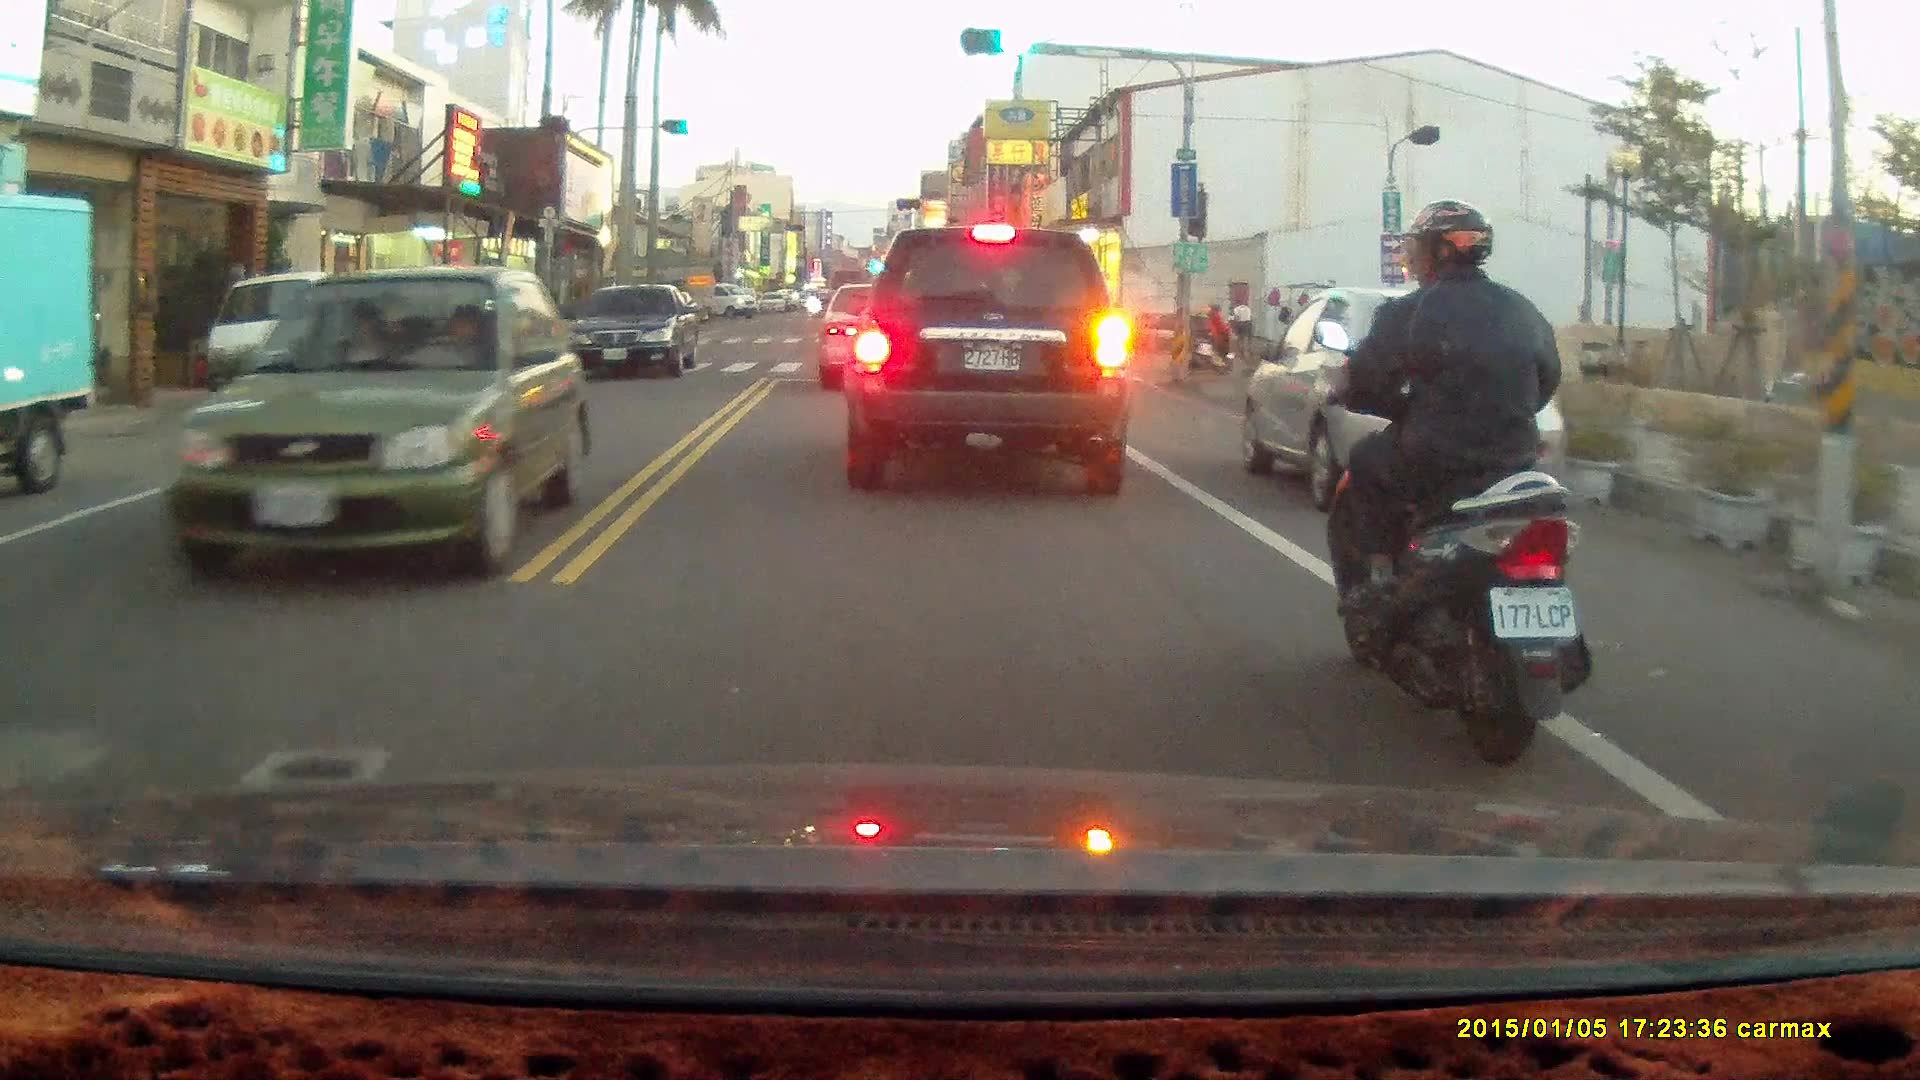pedestrian: (1229, 294, 1255, 361)
rider: (1316, 199, 1595, 773), (1179, 294, 1236, 374)
vehicle: (166, 264, 580, 586), (1237, 288, 1577, 533), (847, 223, 1135, 498), (1, 191, 99, 498), (820, 283, 940, 396), (568, 283, 704, 383)
